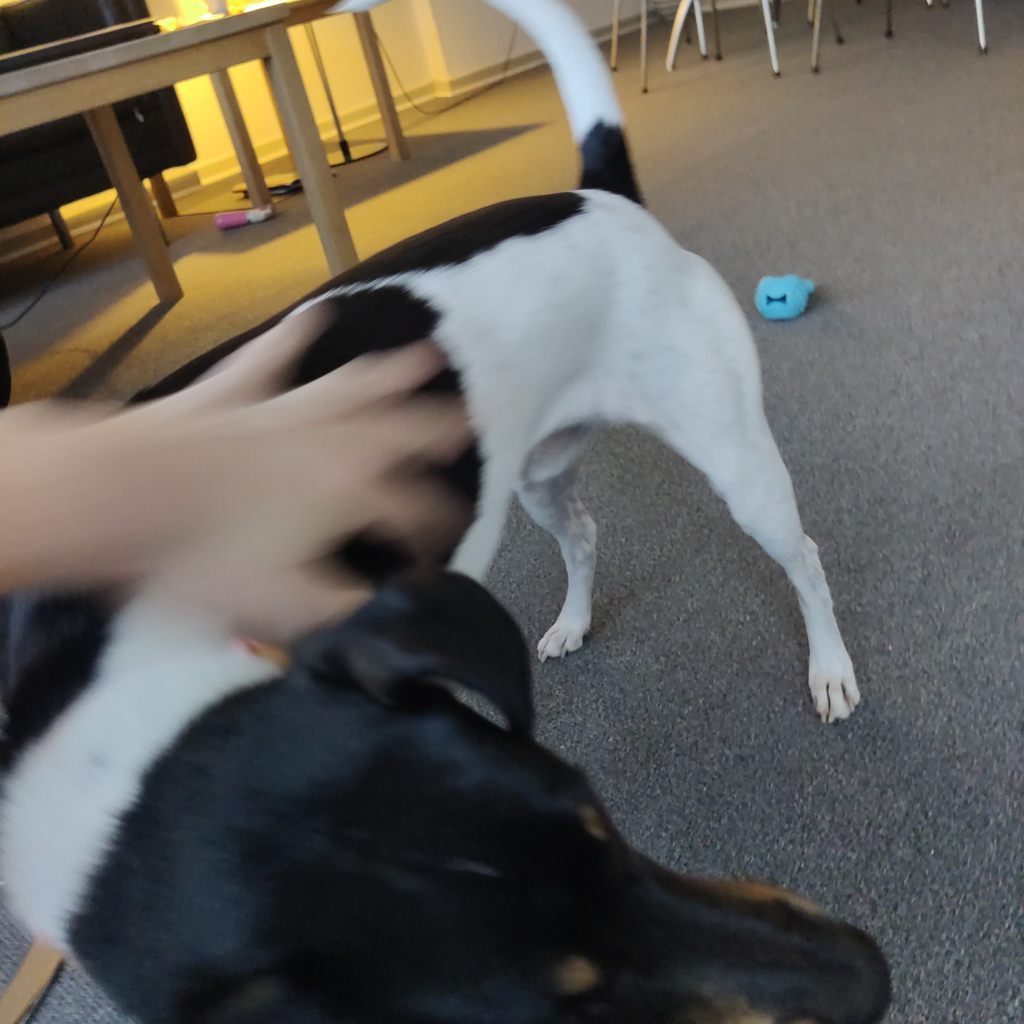Dog: (0, 0, 933, 1024)
Humanoid: (0, 260, 510, 710)
